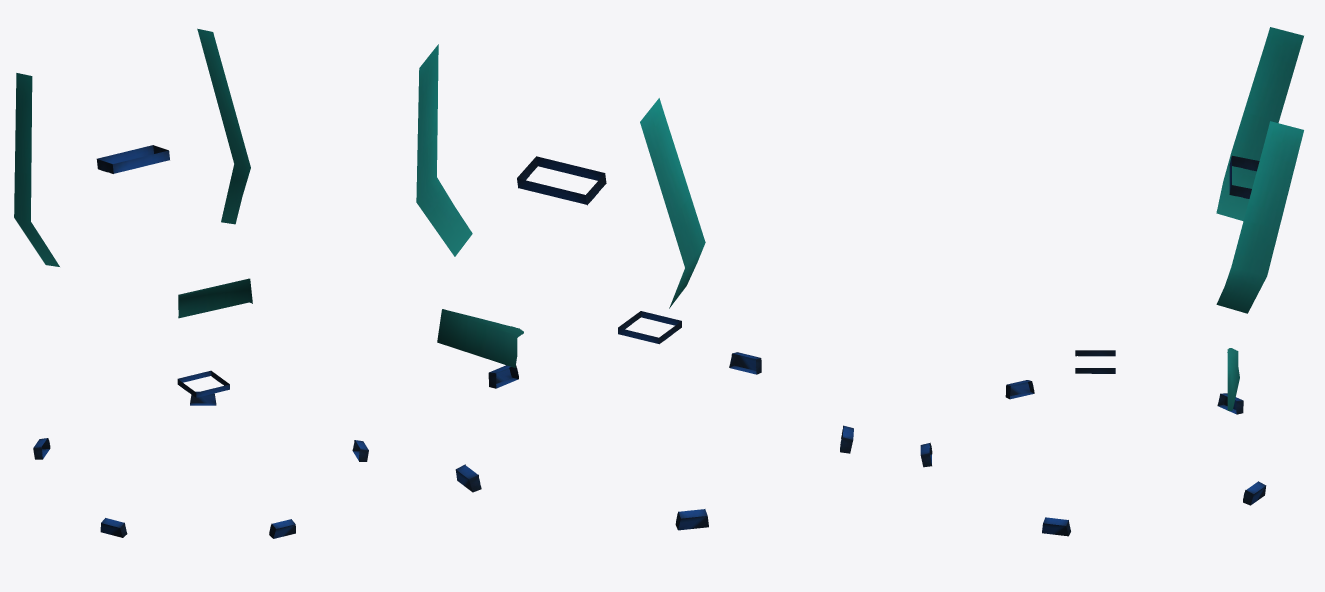
File: chair3.fbx
3 renders of one model, left to right at view 1: azimuth 30°, elevation 25°; view 2: azimuth 150°, elevation 25°; view 3: azimuth 270°, elevation 25°, orthographic. The views are drawn at different scales.
Parts seen in each view (by area): view 1: chair3; view 2: chair3; view 3: chair3.
Boxes of the visible parts, <box> form: chair3: <box>14,28,368,538</box>; chair3: <box>416,44,853,530</box>; chair3: <box>920,27,1303,536</box>.
Bounding box in the file's own units: 7.03 × 9.26 × 7.5.
